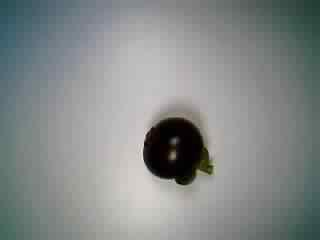mangosteen: (140, 113, 217, 194)
